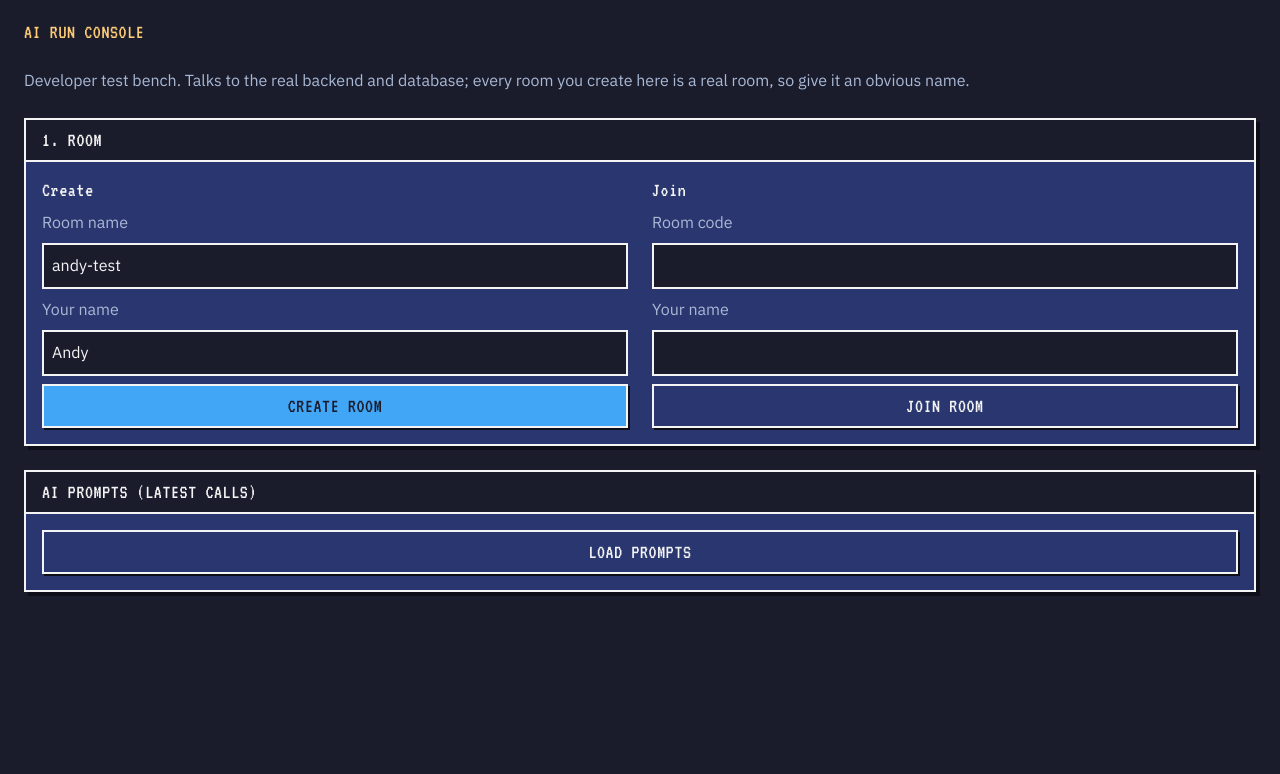
DevRunConsole › lists guide messages and lets the developer vote on an open session
Click the button "Create room" at x=335, y=406, box [42,384,628,428]
(page scrolled)
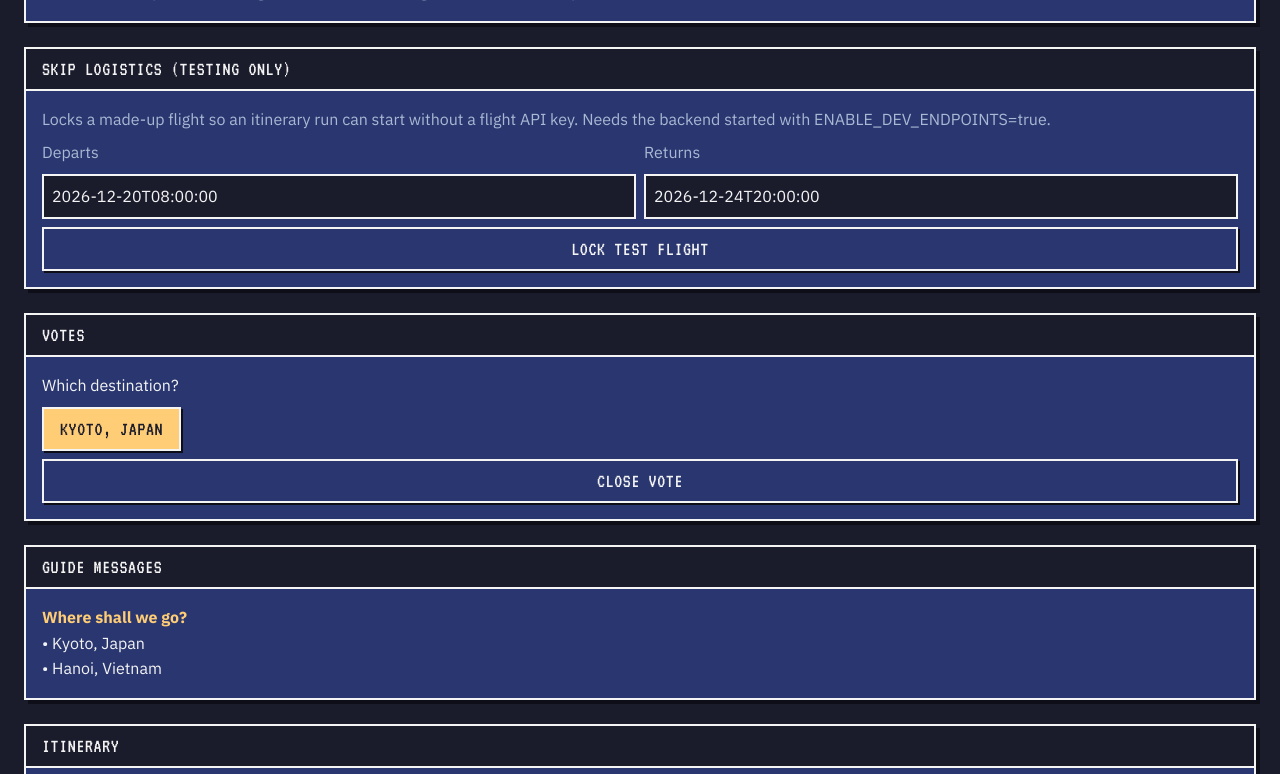
Expected: the text "Where shall we go?" is shown, [42,607,187,627]
Expected: the text "• Hanoi, Vietnam" is shown, [42,658,162,678]
Click the button with aria-label "Vote for Kyoto, Japan" at x=112, y=429, box [42,407,181,451]
(page scrolled)
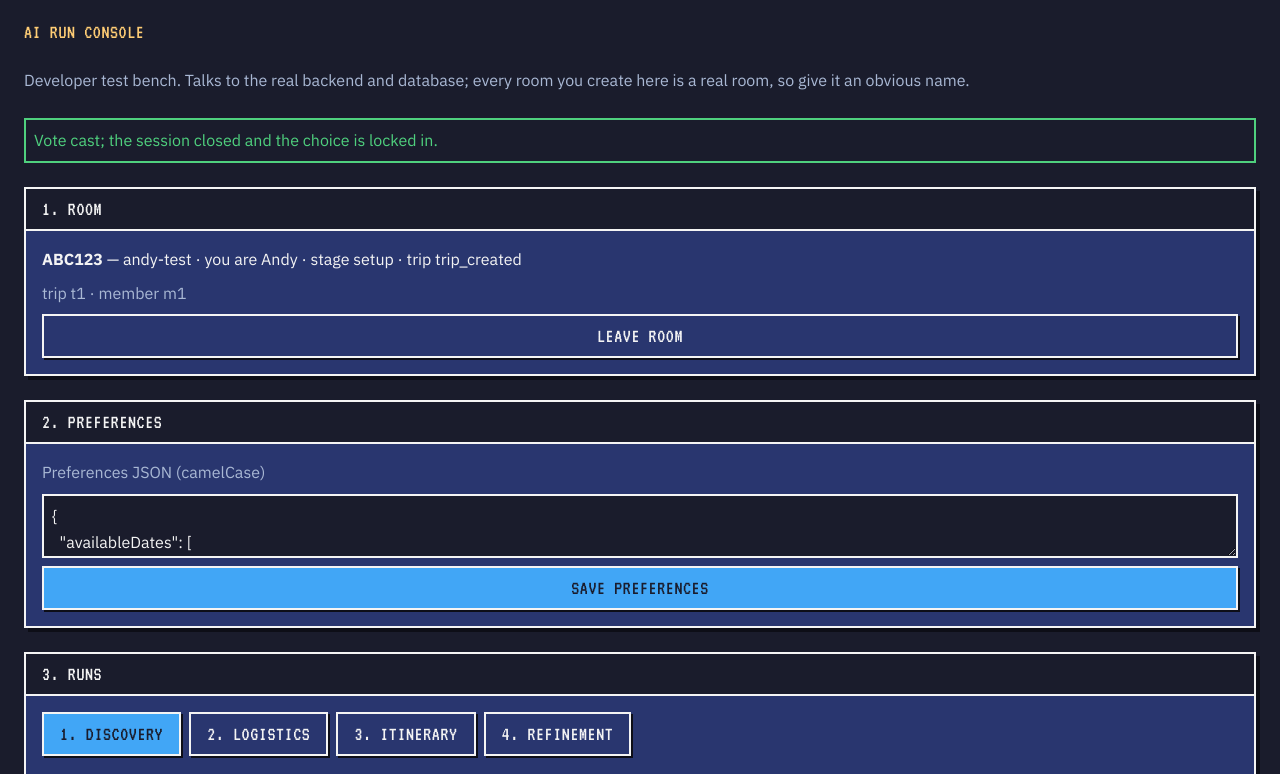
Expected: the message shows "choice is locked in", [34,130,438,150]
